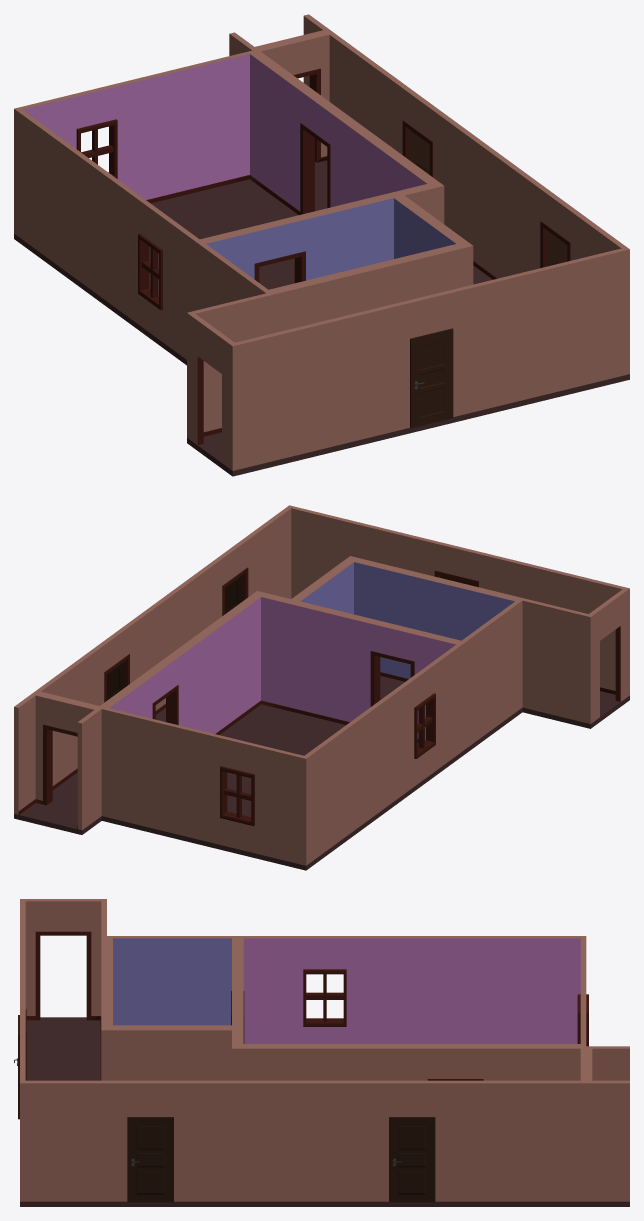
Rendered from T2_Etage1.fbx.
3 renders of one model, top to bottom at view 1: azimuth 30°, elevation 25°; view 2: azimuth 150°, elevation 25°; view 3: azimuth 270°, elevation 25°, orthographic. The views are drawn at different scales.
Visible parts, largest first — view 1: T2_Etage1; view 2: T2_Etage1; view 3: T2_Etage1.
Boxes of the visible parts, x1,y1,x2,y2 form: T2_Etage1: (14,14,629,476); T2_Etage1: (14,505,629,870); T2_Etage1: (14,899,629,1206).
Bounding box in the file's own units: 1014 × 313 × 1414.
